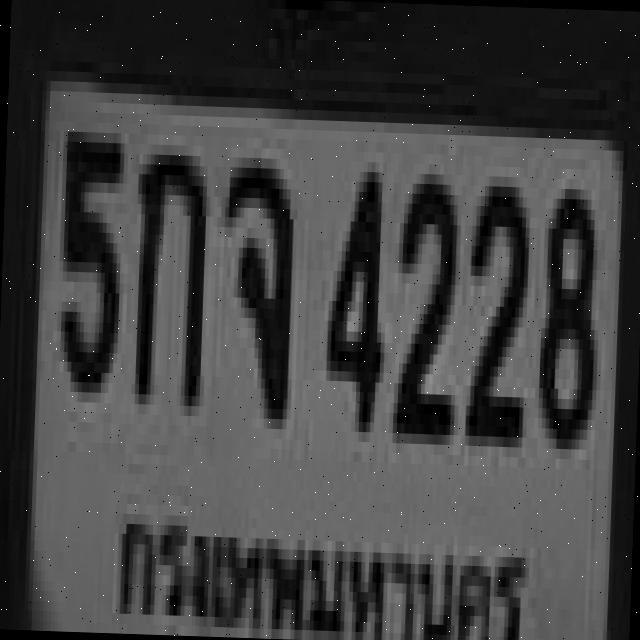10GorGai: (130, 144, 204, 396)
17ChorChan: (214, 146, 292, 418)
2: (389, 162, 455, 434), (461, 175, 527, 437)
4: (320, 160, 383, 422)
5: (54, 121, 120, 383)
8: (533, 178, 596, 440)
Bangkok: (103, 493, 546, 640)
